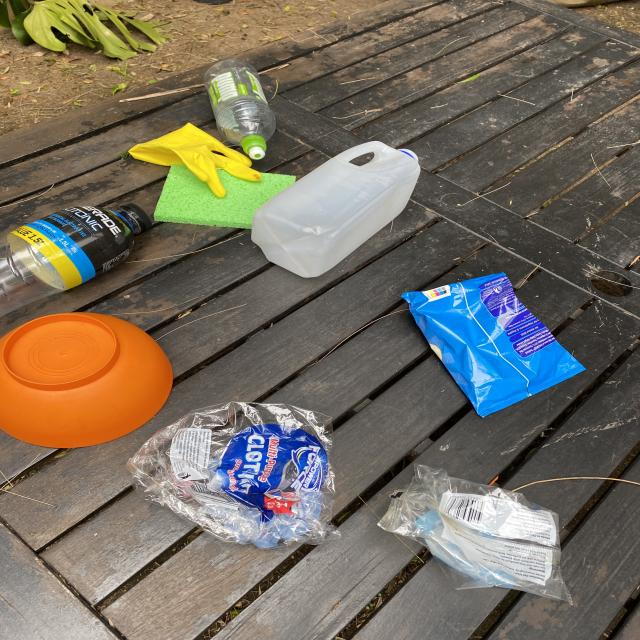bottle: (250, 141, 421, 278), (0, 202, 152, 318), (204, 59, 276, 159)
bowl: (0, 312, 173, 448)
glove: (128, 122, 261, 198)
sponge: (154, 164, 296, 228)
wrappers: (126, 402, 342, 551), (377, 463, 573, 605), (401, 272, 587, 418)
